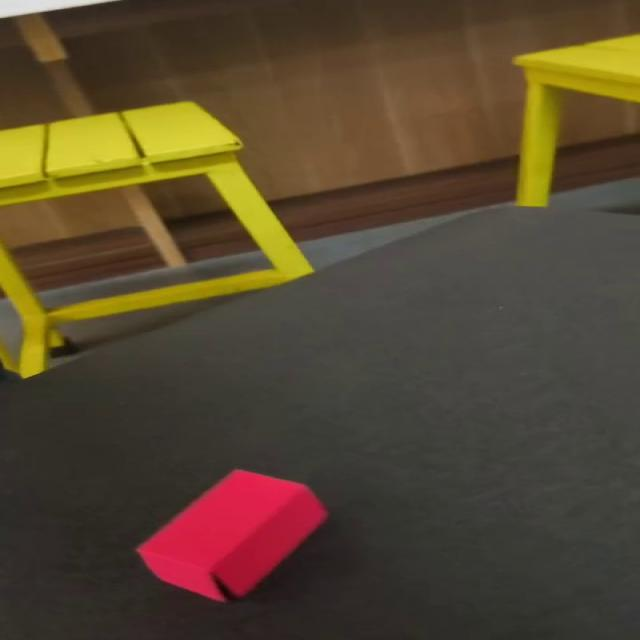red block: (135, 468, 328, 602)
